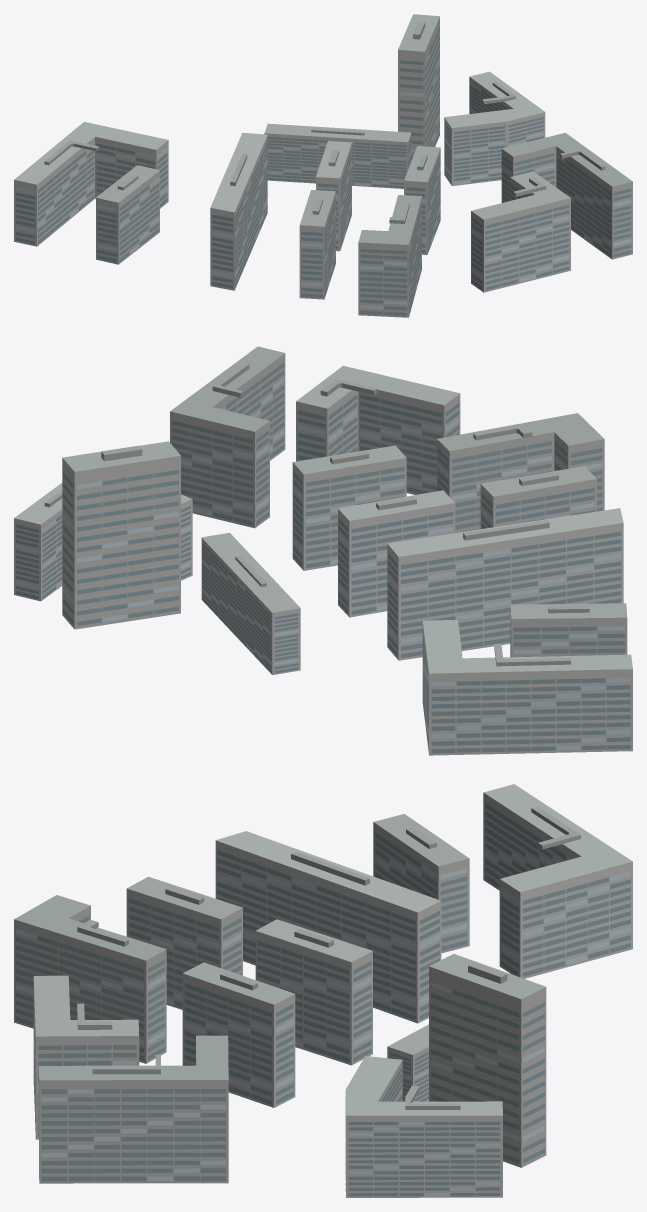
File: apt-a10024412.glb
The picture shows the model from 3 angles, top to bottom: view 1: azimuth 30°, elevation 25°; view 2: azimuth 150°, elevation 25°; view 3: azimuth 270°, elevation 25°; orthographic projection. The views are drawn at different scales.
Visible parts, largest first — view 1: apt-a10024412; view 2: apt-a10024412; view 3: apt-a10024412.
Boxes of the visible parts, x1,y1,x2,y2 form: apt-a10024412: (14, 14, 632, 317); apt-a10024412: (14, 346, 632, 755); apt-a10024412: (14, 784, 632, 1197).
Size of the model in its own units: 250 by 62.61 by 200.
